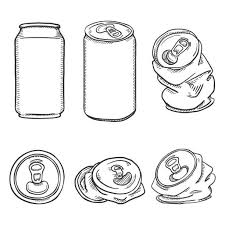can: (150, 26, 219, 121), (80, 19, 140, 127), (12, 22, 69, 123), (73, 151, 147, 206), (154, 148, 214, 205), (9, 148, 66, 206)
